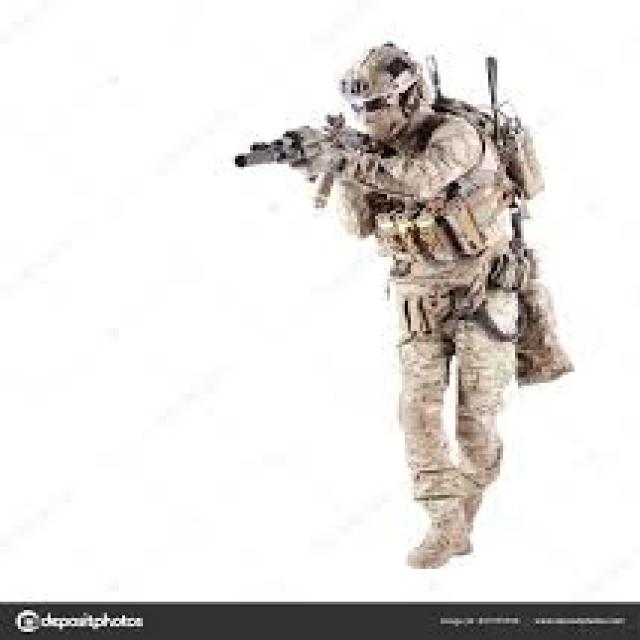soldier: (234, 56, 568, 584)
